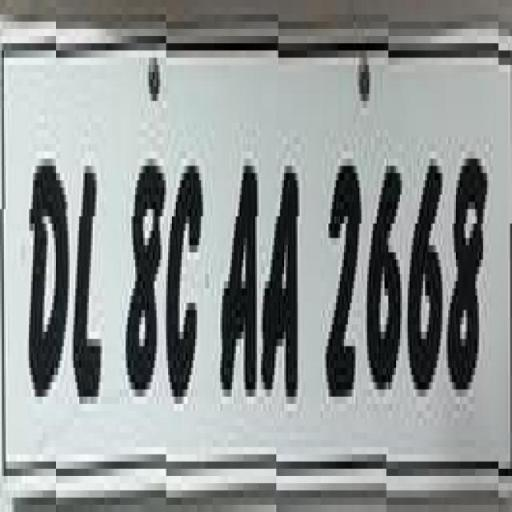number plate: (15, 0, 512, 483)
